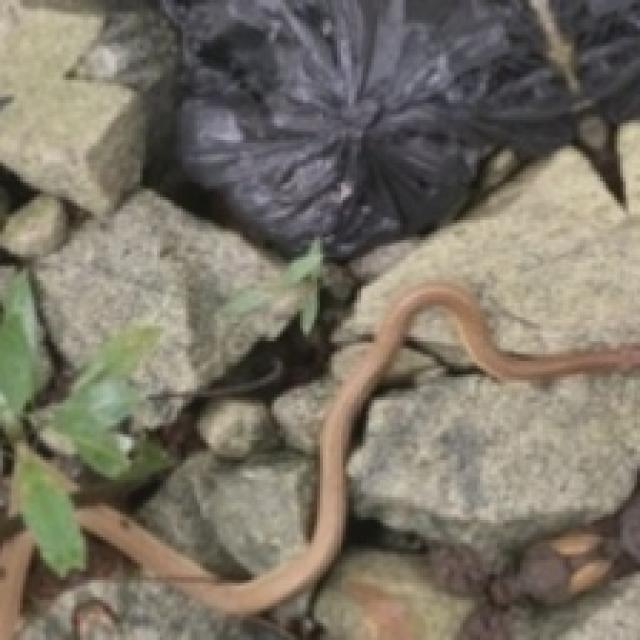king cobra: (77, 283, 637, 614)
